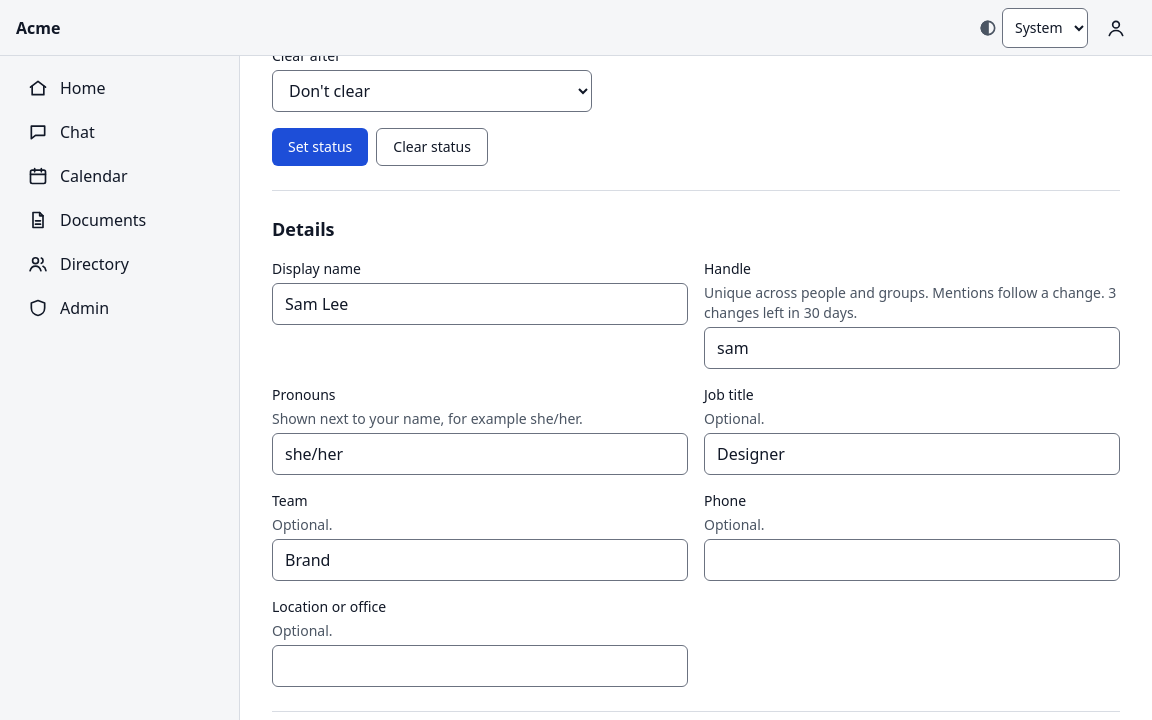
it: profile and status (M1d) › shows a taken handle from the server on the field
The width and height of the screenshot is (1152, 720).
(page scrolled)
Replace the text in the field labelled "Handle" with "ana": (912, 348) [704, 327, 1120, 369]
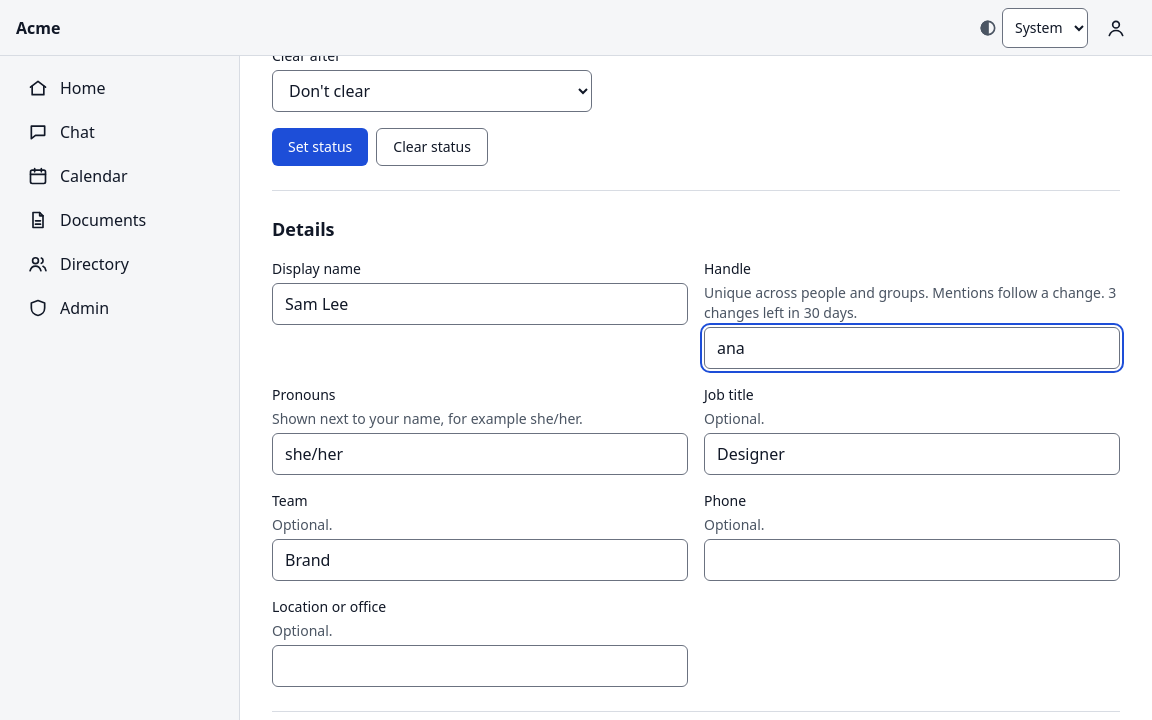
Press Tab
(page scrolled)
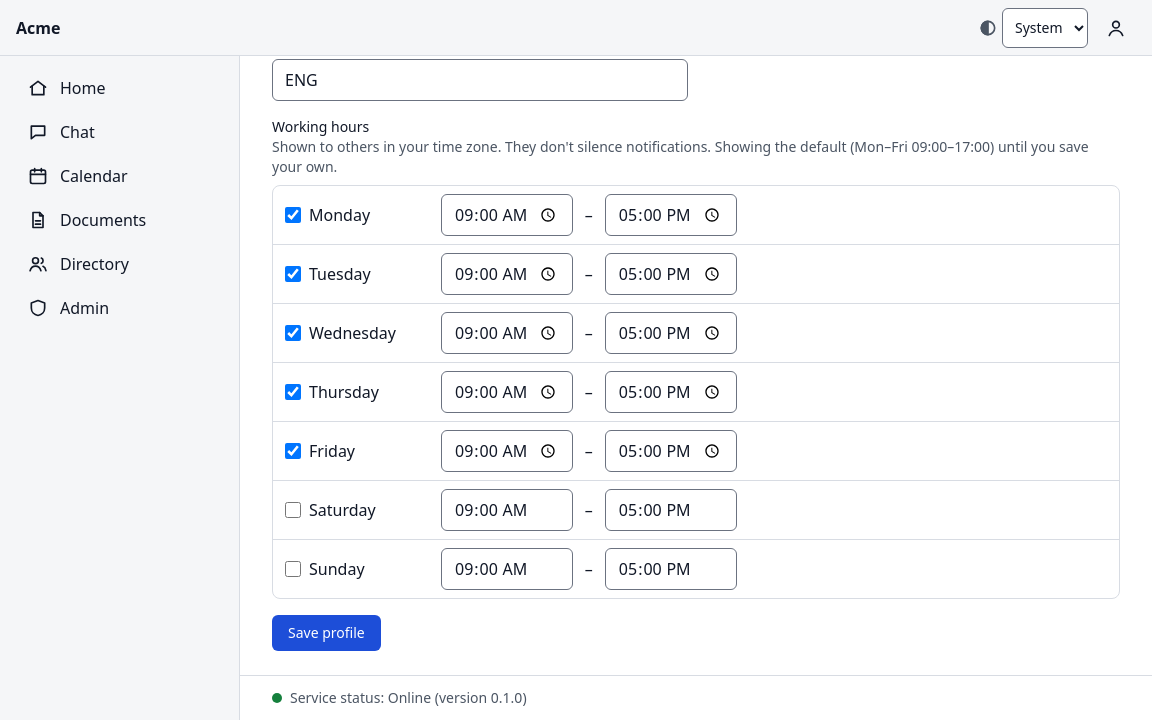
Click the button "Save profile": (326, 633) [272, 615, 381, 651]
(page scrolled)
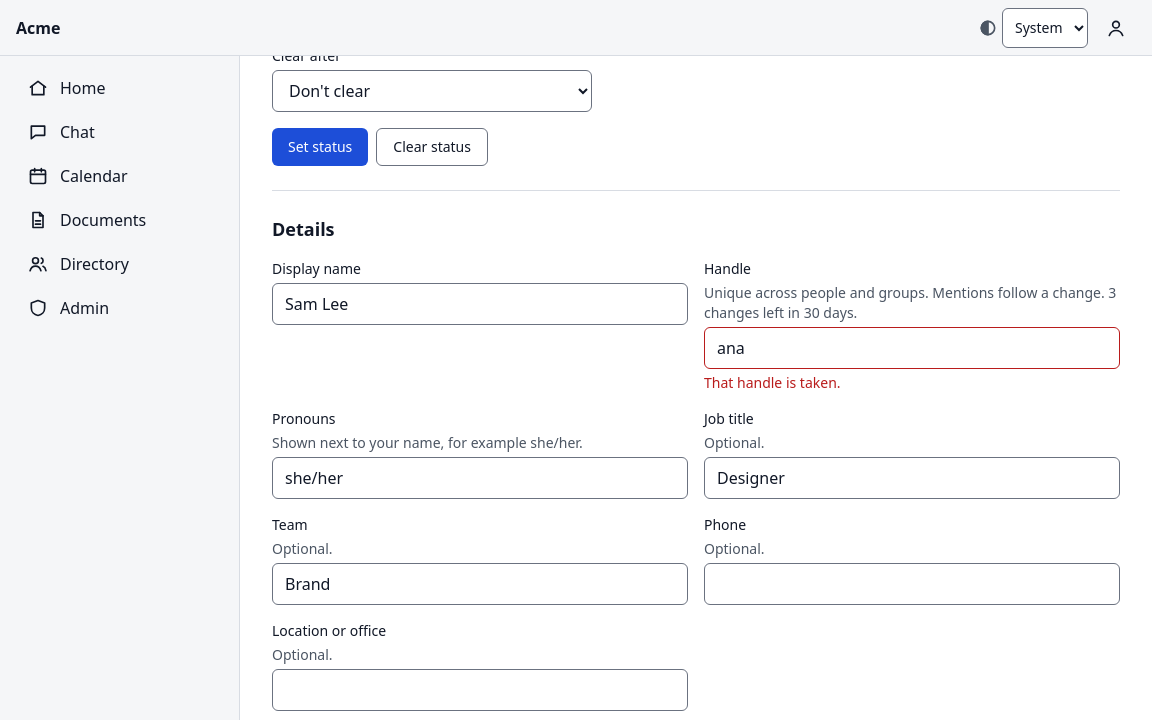
Check: the field labelled "Handle" is marked as invalid, box [704, 327, 1120, 369]
